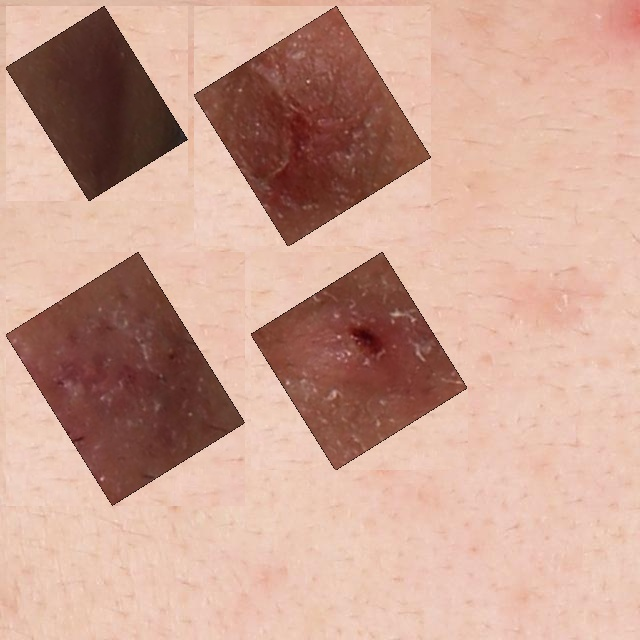nodule: (17, 263, 234, 494), (205, 17, 420, 235), (262, 263, 456, 459), (17, 17, 177, 190)
